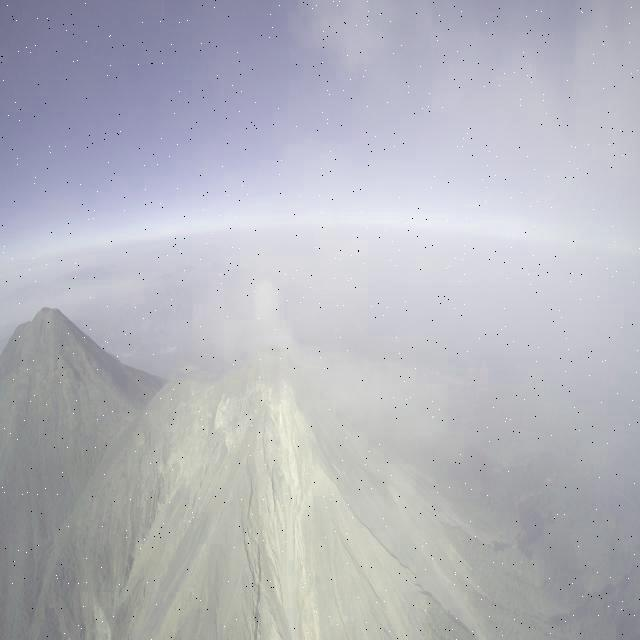Summit: (210, 339, 326, 443)
